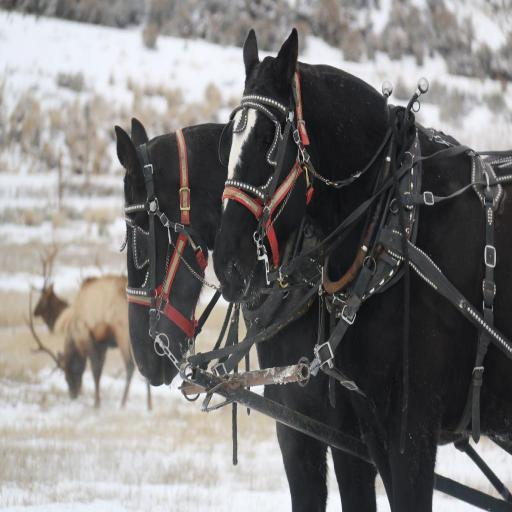horse: (115, 115, 512, 510), (51, 272, 152, 412)
